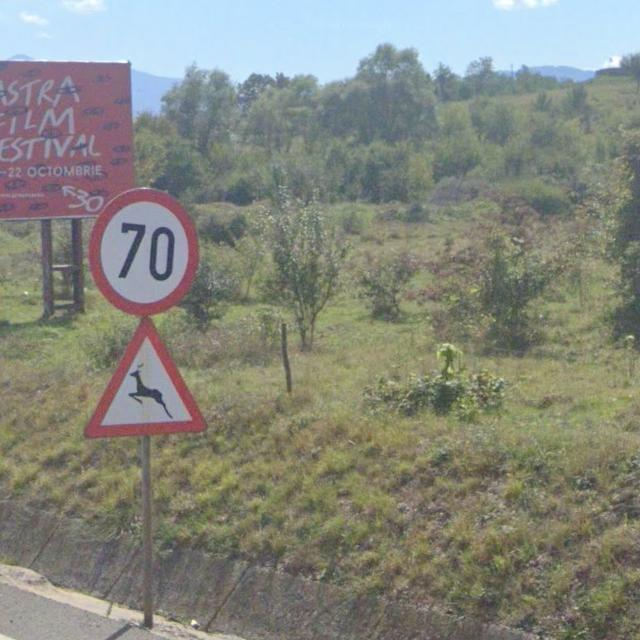forb_speed_over_70: (84, 185, 202, 320)
